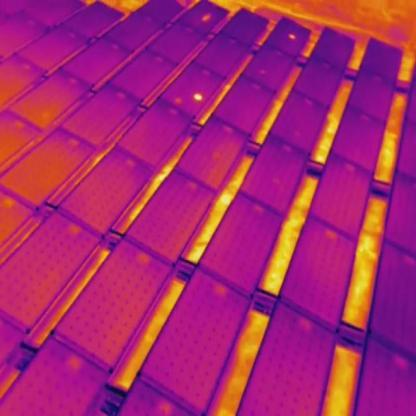anomaly: (190, 88, 206, 108), (199, 10, 213, 23), (289, 32, 298, 41)
